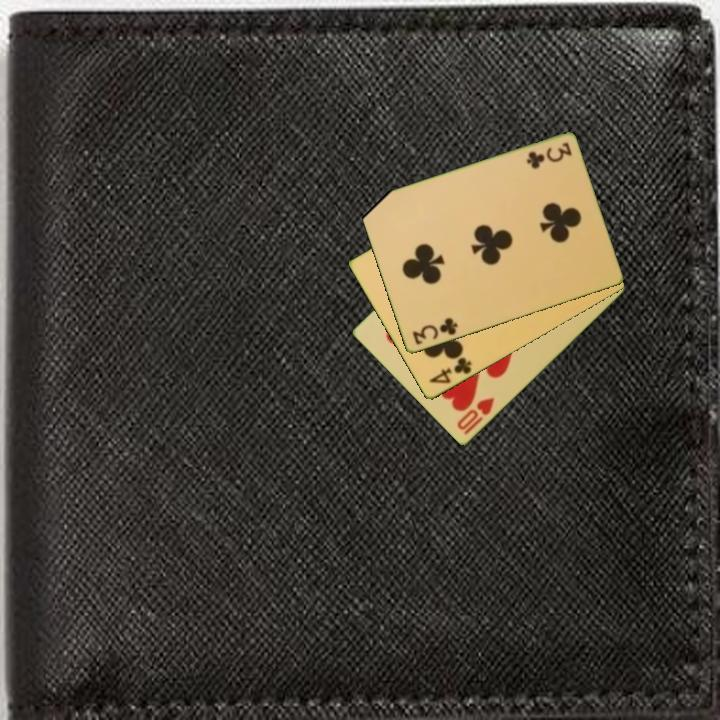10h: (453, 394, 498, 434)
3c: (409, 314, 460, 348), (523, 139, 574, 171)
4c: (425, 354, 474, 387)
